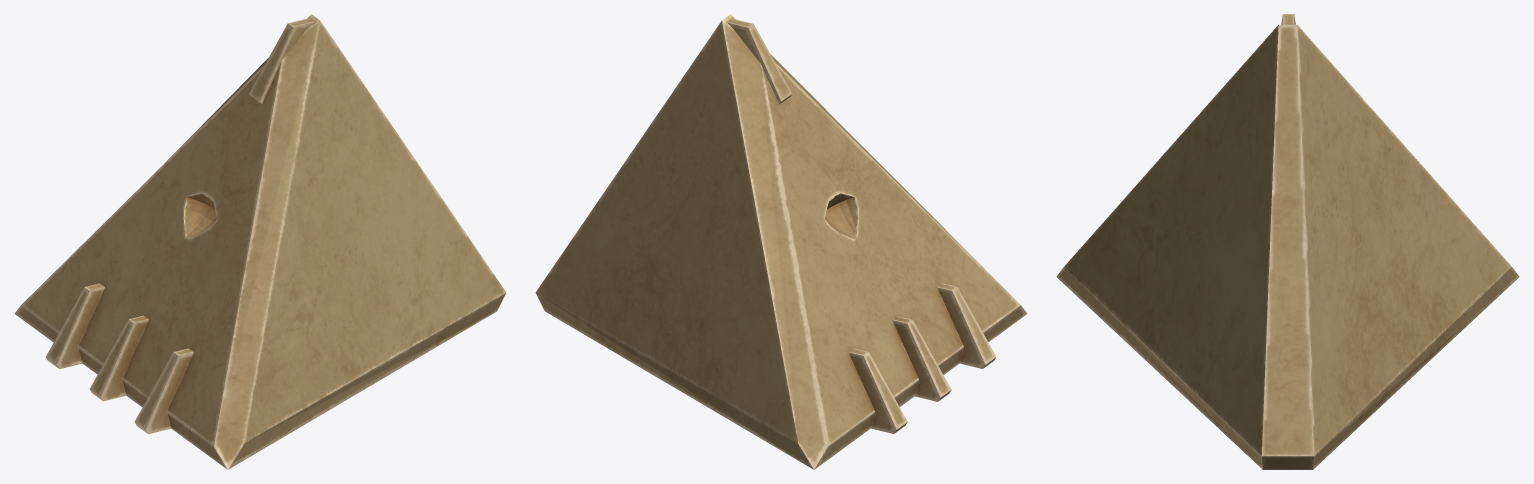
Rendered from Blue Gem Ruin.FBX.
3 renders of one model, left to right at view 1: azimuth 30°, elevation 25°; view 2: azimuth 150°, elevation 25°; view 3: azimuth 270°, elevation 25°, orthographic. The views are drawn at different scales.
Visible parts, largest first — view 1: Pyramid blue; view 2: Pyramid blue; view 3: Pyramid blue.
Boxes of the visible parts, x1=… form: Pyramid blue: x1=14, y1=14, x2=506, y2=469; Pyramid blue: x1=535, y1=14, x2=1027, y2=469; Pyramid blue: x1=1056, y1=14, x2=1519, y2=469.
Bounding box in the file's own units: 1582 × 1239 × 1465.
Materials: 1 (1 with a texture image).
